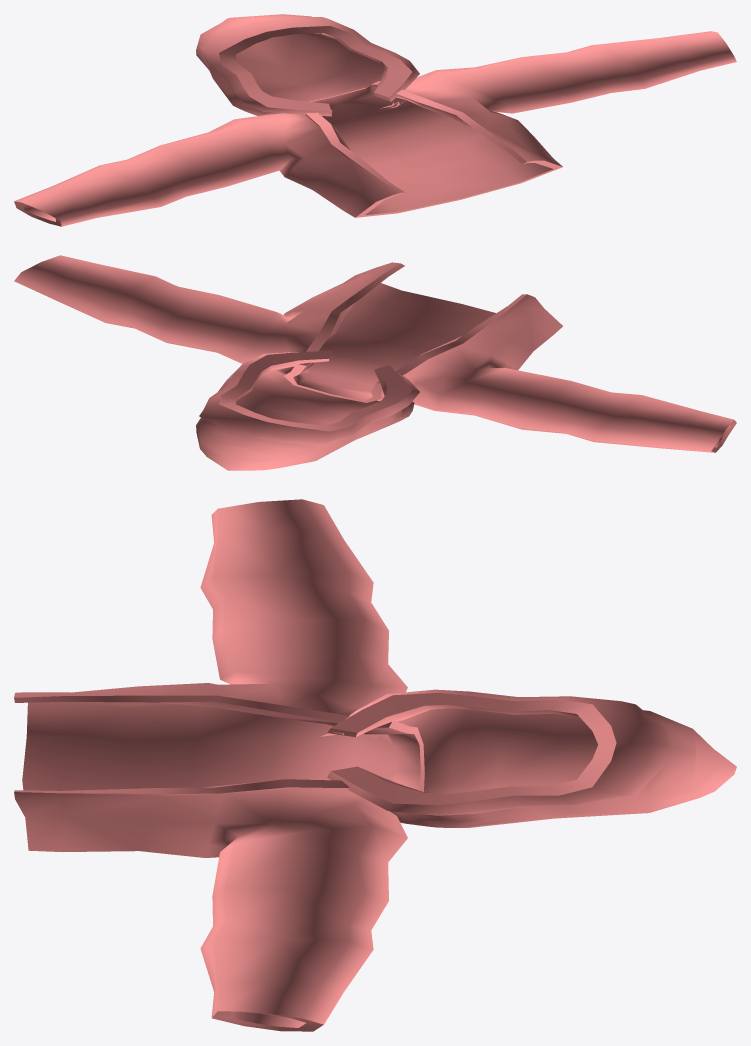
Rendered from W_Wattson_Jacket.FBX.
3 views of the same model, one above another, from view 1: azimuth 30°, elevation 25°; view 2: azimuth 150°, elevation 25°; view 3: azimuth 270°, elevation 25° (orthographic). The views are drawn at different scales.
Visible parts, largest first — view 1: Bob_LongCoat001; view 2: Bob_LongCoat001; view 3: Bob_LongCoat001.
Part boxes in pixels (<box>): Bob_LongCoat001: <box>14,14,736,226</box>; Bob_LongCoat001: <box>14,255,736,470</box>; Bob_LongCoat001: <box>14,499,736,1031</box>.
Size of the model in its own units: 86.29 by 3.22 by 50.6.
